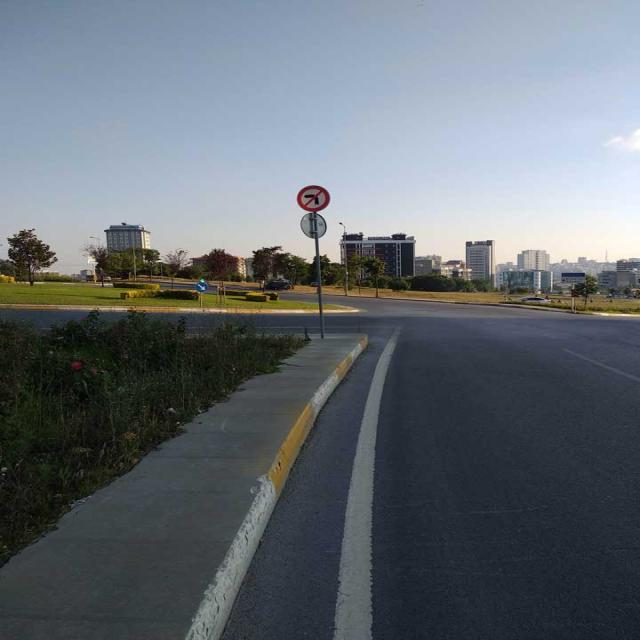soladonulmez: (296, 185, 332, 212)
